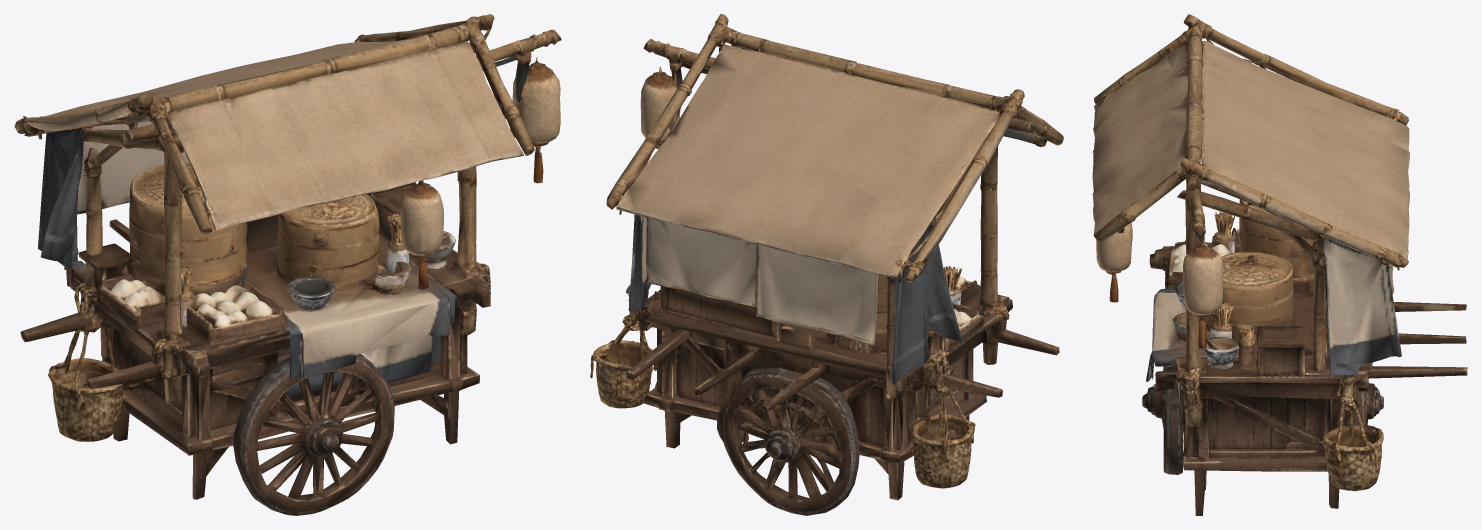
File: 05_Steamed_Bun_Cart_LOD1.fbx
The picture shows the model from 3 angles, left to right: view 1: azimuth 30°, elevation 25°; view 2: azimuth 150°, elevation 25°; view 3: azimuth 270°, elevation 25°; orthographic projection. The views are drawn at different scales.
Parts seen in each view (by area): view 1: 05_Steamed_Bun_Cart_L1; view 2: 05_Steamed_Bun_Cart_L1; view 3: 05_Steamed_Bun_Cart_L1.
Part boxes in pixels (left/top/right/bottom): 05_Steamed_Bun_Cart_L1: left=14, top=14, right=561, bottom=515; 05_Steamed_Bun_Cart_L1: left=590, top=14, right=1063, bottom=515; 05_Steamed_Bun_Cart_L1: left=1092, top=14, right=1467, bottom=515.
Size of the model in its own units: 2.53 by 2.3 by 2.02.
